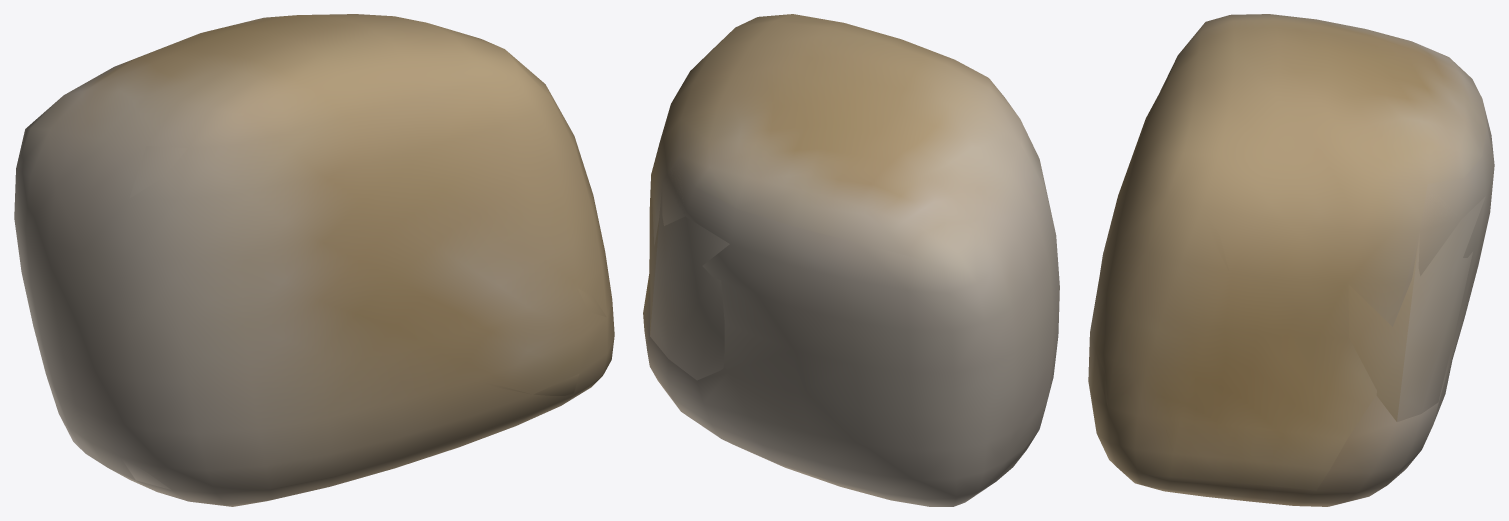
The model's file is L tarsi primum.fbx.
3 renders of one model, left to right at view 1: azimuth 30°, elevation 25°; view 2: azimuth 150°, elevation 25°; view 3: azimuth 270°, elevation 25°, orthographic. The views are drawn at different scales.
Parts seen in each view (by area): view 1: L tarsi primum, L tarsi primum low; view 2: L tarsi primum, L tarsi primum low; view 3: L tarsi primum, L tarsi primum low.
Part boxes in pixels (x1=…): L tarsi primum: x1=14, y1=14, x2=614, y2=506; L tarsi primum low: x1=120, y1=146, x2=606, y2=489; L tarsi primum: x1=643, y1=14, x2=1059, y2=506; L tarsi primum low: x1=650, y1=119, x2=1043, y2=380; L tarsi primum: x1=1088, y1=14, x2=1494, y2=506; L tarsi primum low: x1=1095, y1=194, x2=1485, y2=499.
Bounding box in the file's own units: 1.01 × 0.8863 × 0.7874.
